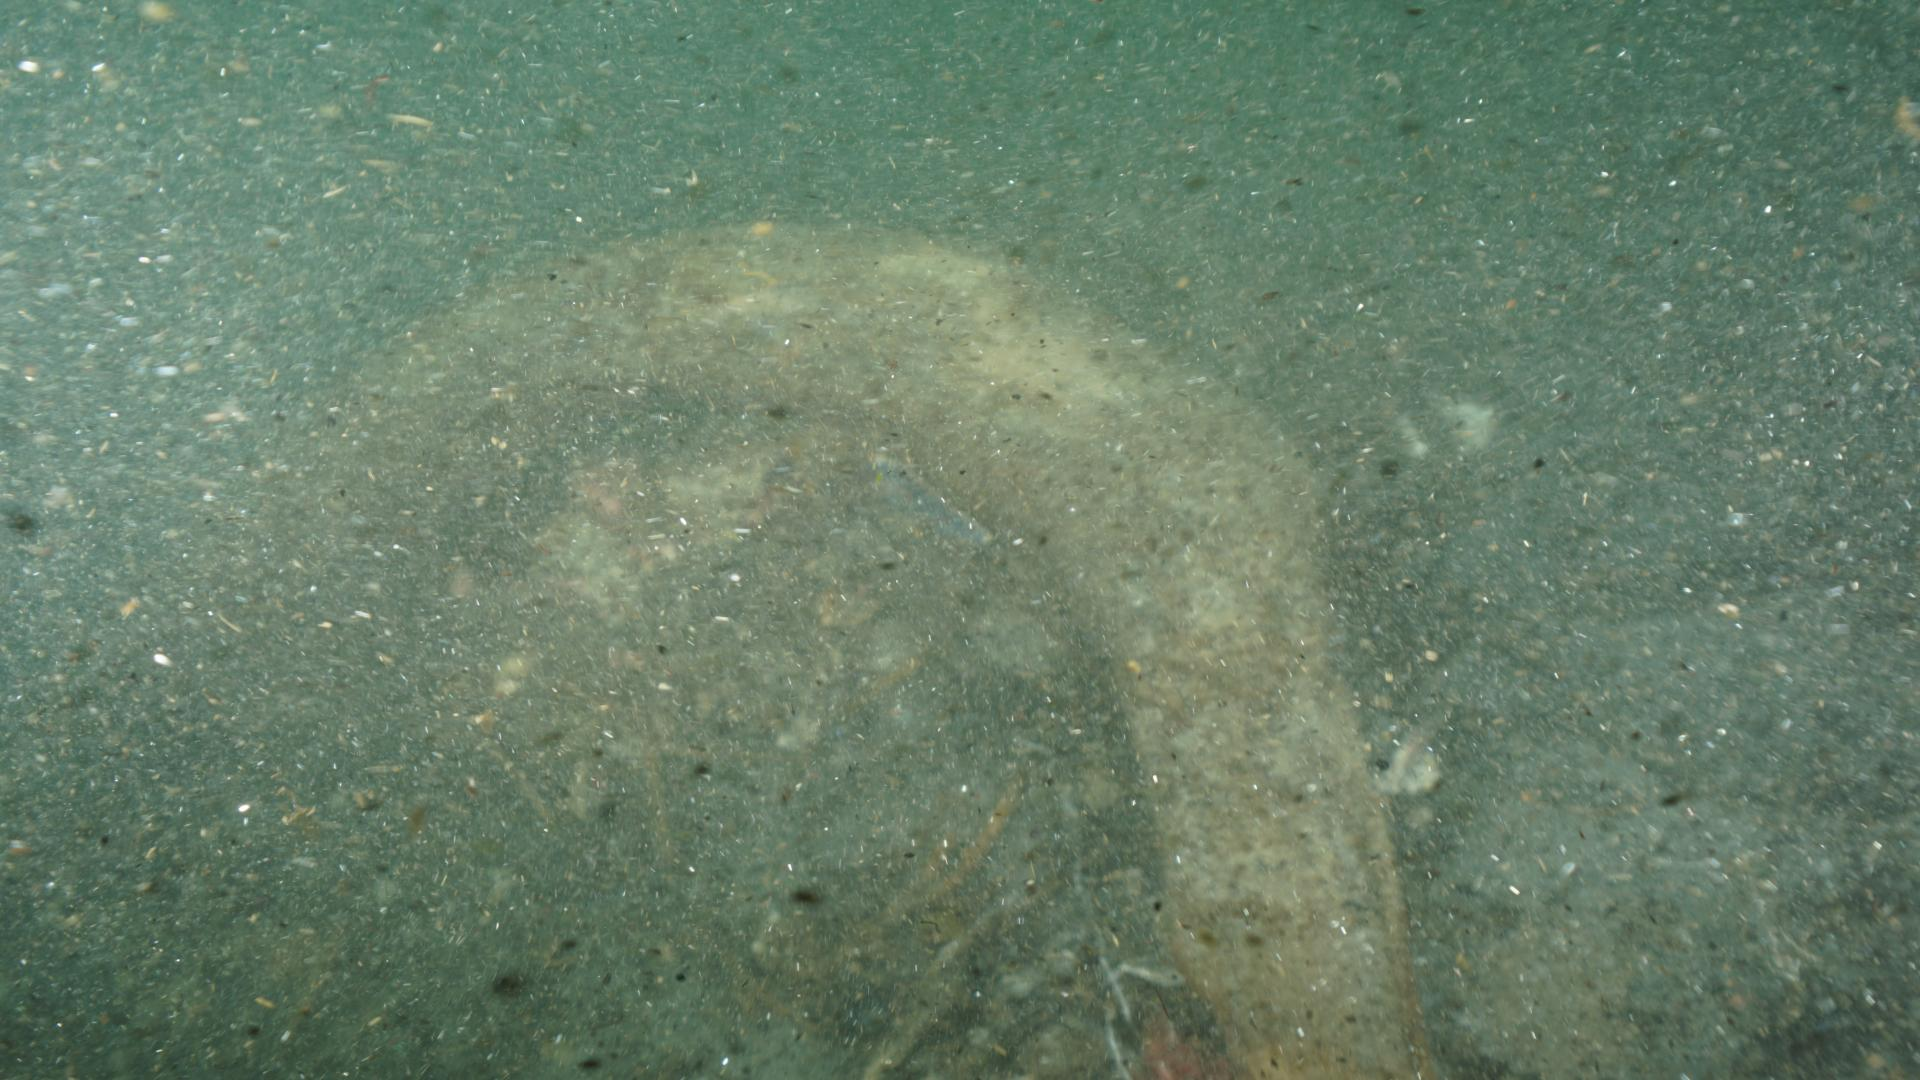wood: (361, 211, 1420, 1077)
